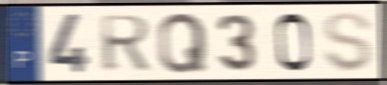0: (273, 11, 312, 74)
3: (215, 12, 259, 73)
4: (46, 11, 95, 76)
Q: (156, 11, 209, 76)
R: (98, 13, 154, 74)
S: (322, 10, 375, 74)
